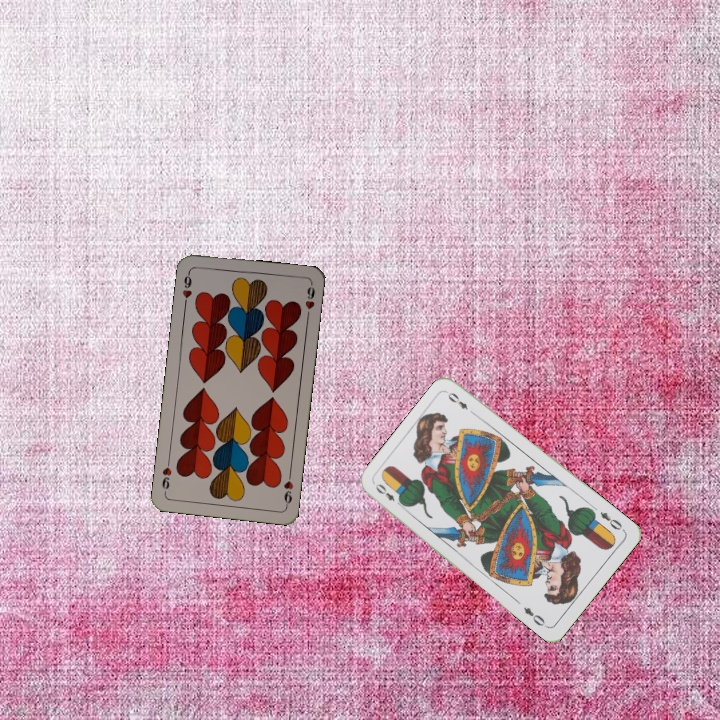EO: (371, 479, 406, 510), (596, 508, 627, 534)
H9: (280, 468, 296, 509), (178, 267, 194, 308)
